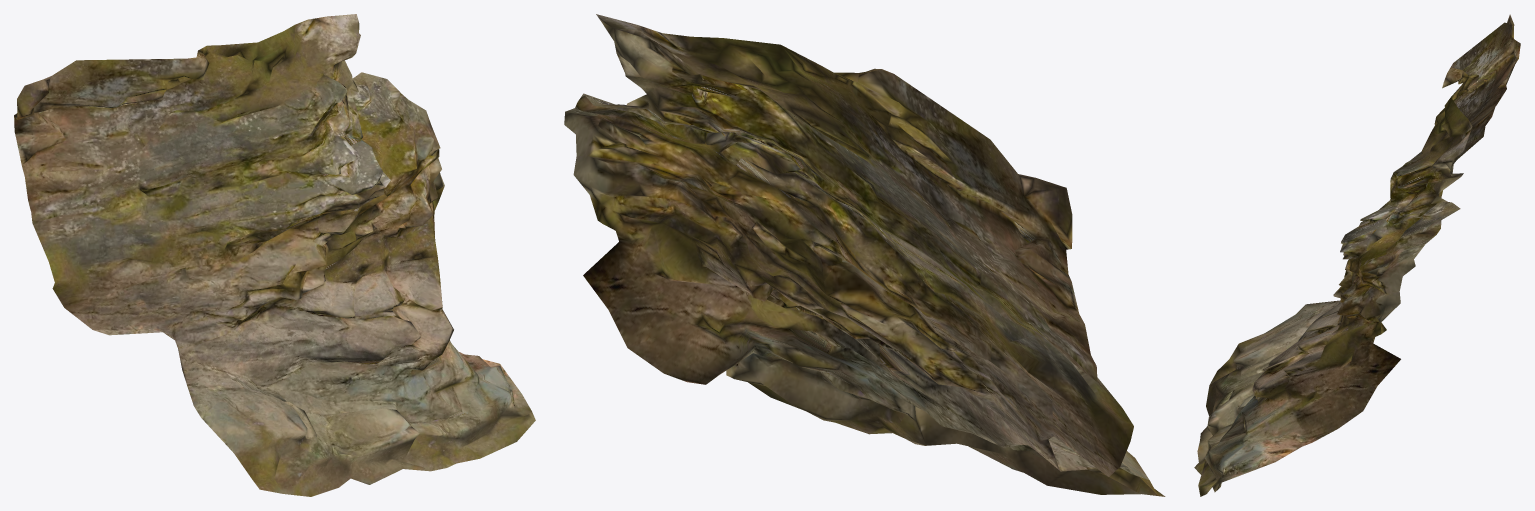
File: vach-da-2.glb
The picture shows the model from 3 angles, left to right: view 1: azimuth 30°, elevation 25°; view 2: azimuth 150°, elevation 25°; view 3: azimuth 270°, elevation 25°; orthographic projection. The views are drawn at different scales.
Parts seen in each view (by area): view 1: rock_face_02; view 2: rock_face_02; view 3: rock_face_02.
Boxes of the visible parts, left/top/right/bottom form: rock_face_02: left=14, top=14, right=535, bottom=496; rock_face_02: left=564, top=14, right=1165, bottom=496; rock_face_02: left=1194, top=14, right=1520, bottom=496.
Bounding box in the file's own units: 0.9998 × 0.9115 × 0.7845.
Materials: 1 (1 with a texture image).
